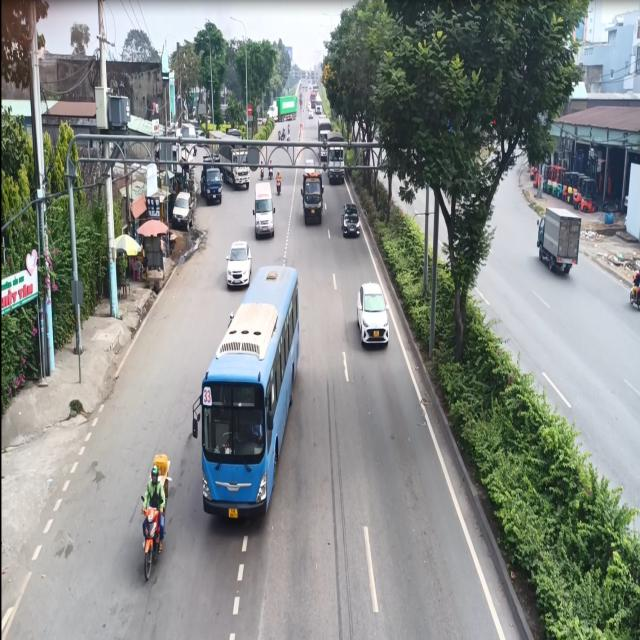bus: (191, 267, 307, 542)
car: (352, 275, 392, 349), (224, 228, 251, 288), (252, 178, 278, 236), (341, 194, 362, 248)
motor: (131, 452, 177, 588)
